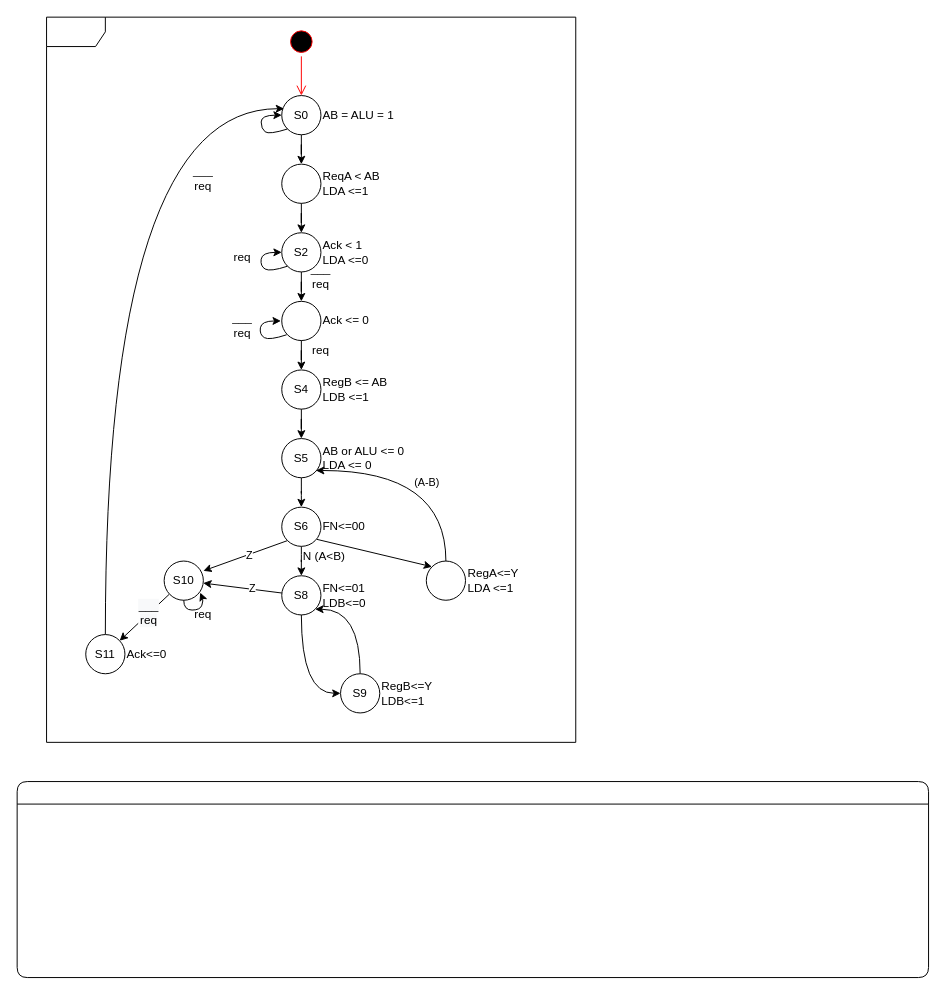
The diagram is 946 pixels wide and 995 high, and some of its shapes have lost their labels. The shapes that lost their labels are listed below. From the top down, each one's box as (x1, y1, x2, y2) in pixels, then its label:
(281, 163, 321, 203): S1
(281, 300, 321, 341): S3
(46, 16, 576, 742): frame
(425, 560, 466, 600): S7
(16, 781, 929, 978): Container
